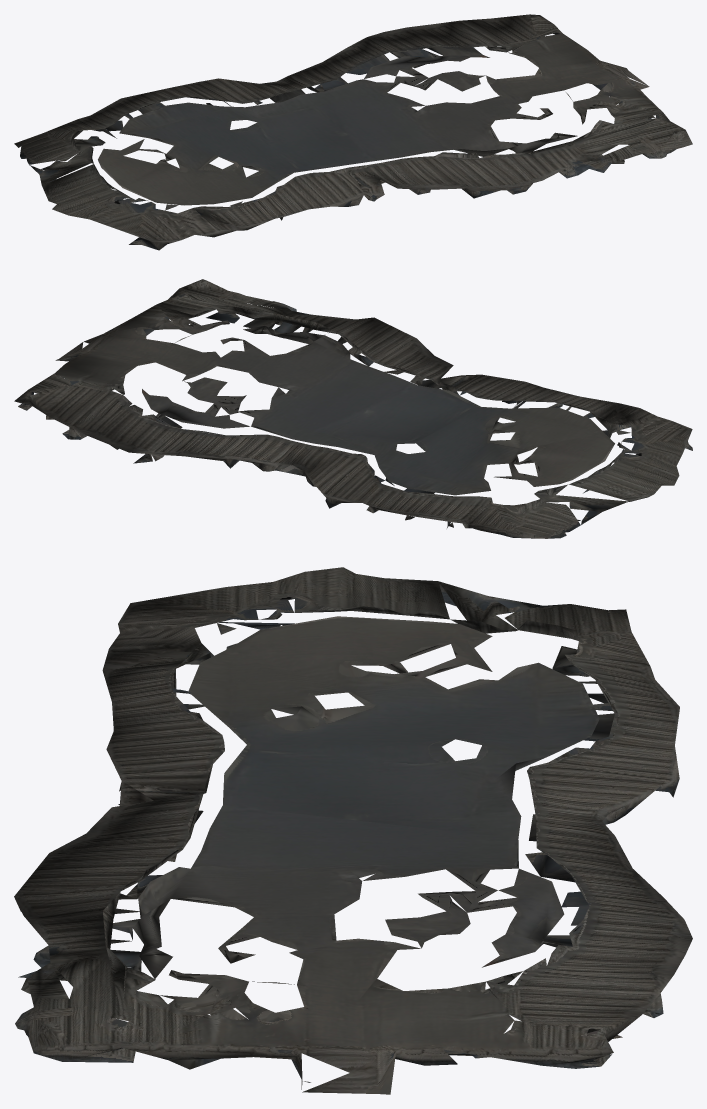
The model's file is horaro_market_deck.glb.
The picture shows the model from 3 angles, top to bottom: view 1: azimuth 30°, elevation 25°; view 2: azimuth 150°, elevation 25°; view 3: azimuth 270°, elevation 25°; orthographic projection. The views are drawn at different scales.
Parts seen in each view (by area): view 1: horaro_market_deck; view 2: horaro_market_deck; view 3: horaro_market_deck.
Part boxes in pixels (x1,y1,x2,y2): horaro_market_deck: [14, 14, 692, 250]; horaro_market_deck: [14, 279, 692, 538]; horaro_market_deck: [14, 567, 692, 1094].
Bounding box in the file's own units: 17.98 × 0.746 × 10.19.
1 material, 1 textured.
